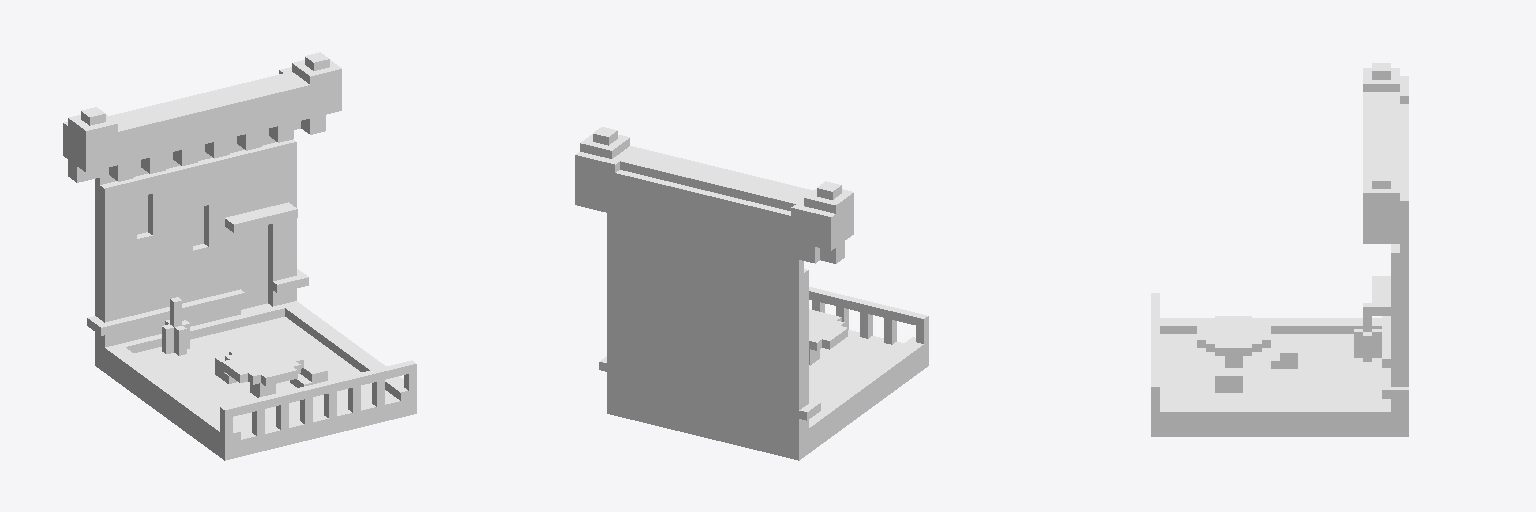
The model's file is tile_3_left_fancy_90.obj.
The picture shows the model from 3 angles: view 1: azimuth 30°, elevation 25°; view 2: azimuth 150°, elevation 25°; view 3: azimuth 270°, elevation 25°; orthographic projection.
Visible parts, largest first — view 1: object 1; view 2: object 1; view 3: object 1.
Part boxes in pixels (x1,y1,x2,y2): object 1: (63, 52, 416, 460); object 1: (575, 127, 928, 460); object 1: (1151, 63, 1408, 436).
Bounding box in the file's own units: 3.2 × 3.2 × 2.8.